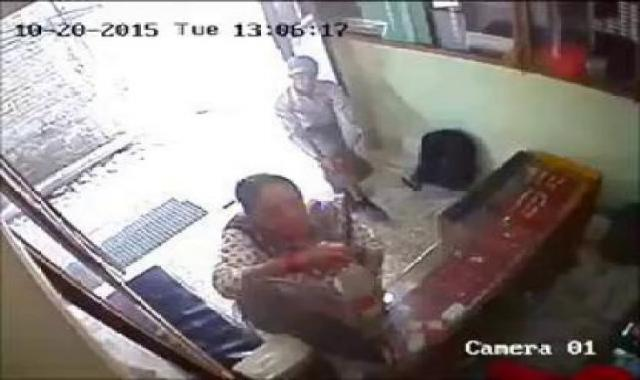no_hairnet: (235, 174, 301, 229), (278, 49, 333, 90)
